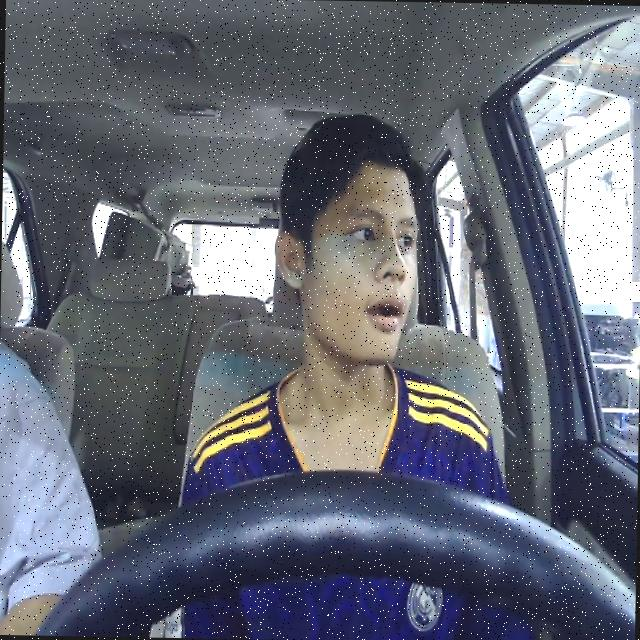yarning: (268, 158, 420, 366)
